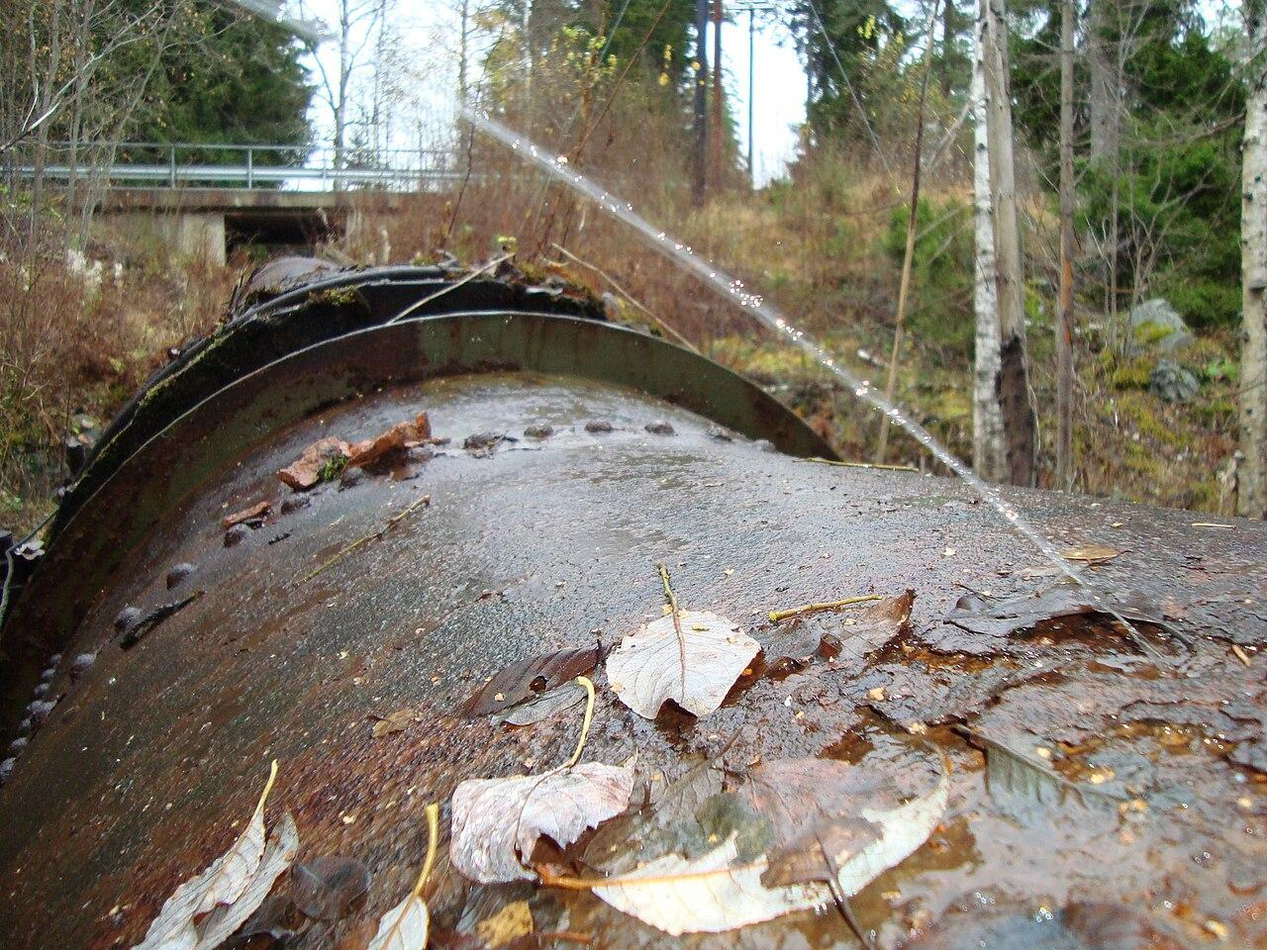pipe burst: (200, 0, 1194, 692)
